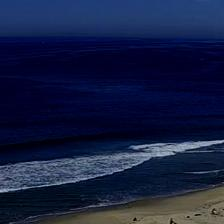surfer: (32, 155, 39, 158)
